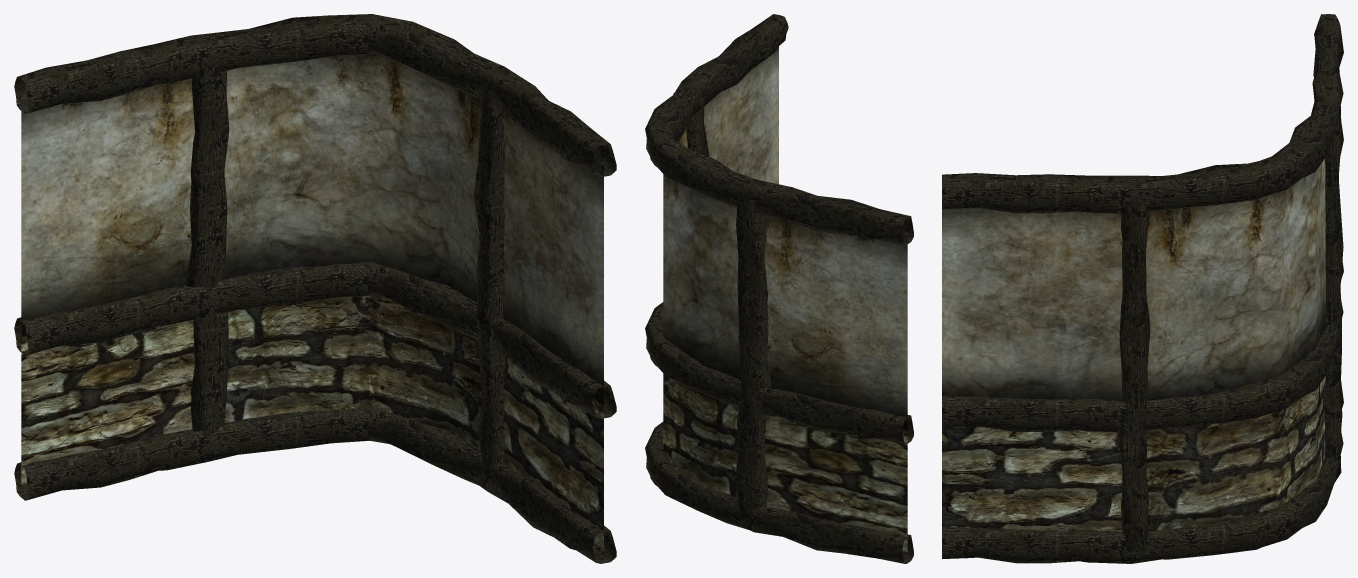
File: corner_concave_round.dae
The picture shows the model from 3 angles, left to right: view 1: azimuth 30°, elevation 25°; view 2: azimuth 150°, elevation 25°; view 3: azimuth 270°, elevation 25°; orthographic projection. The views are drawn at different scales.
Visible parts, largest first — view 1: pPlane11, polySurface13; view 2: pPlane11, polySurface13; view 3: pPlane11, polySurface13.
Part boxes in pixels (<box>): pPlane11: <box>21,54,603,549</box>; polySurface13: <box>14,14,616,563</box>; pPlane11: <box>663,47,907,552</box>; polySurface13: <box>645,14,913,563</box>; pPlane11: <box>942,158,1325,531</box>; polySurface13: <box>942,14,1343,563</box>.
Bounding box in the file's own units: 4.21 × 4.43 × 4.16.
